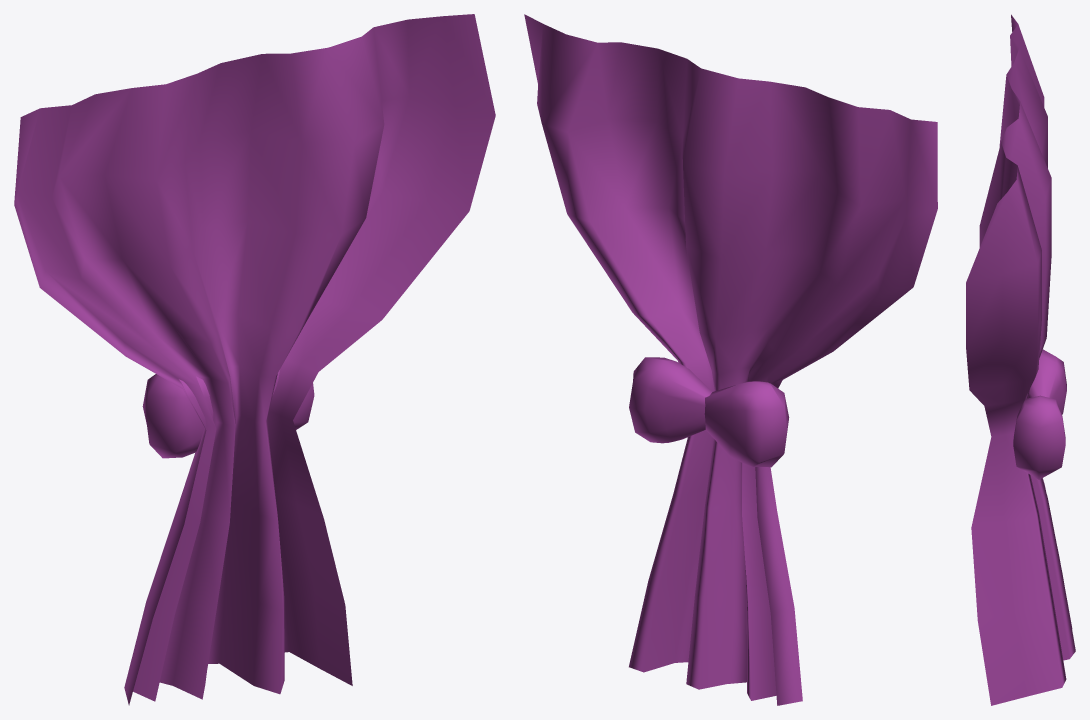
The model's file is mesh_CortinaCurva2.fbx.
The picture shows the model from 3 angles, left to right: view 1: azimuth 30°, elevation 25°; view 2: azimuth 150°, elevation 25°; view 3: azimuth 270°, elevation 25°; orthographic projection. The views are drawn at different scales.
Visible parts, largest first — view 1: mesh_CortinaCurva2; view 2: mesh_CortinaCurva2; view 3: mesh_CortinaCurva2.
Part boxes in pixels (bbox=[...]): mesh_CortinaCurva2: bbox=[14, 14, 495, 705]; mesh_CortinaCurva2: bbox=[524, 14, 937, 705]; mesh_CortinaCurva2: bbox=[966, 14, 1075, 705].
Bounding box in the file's own units: 2112 × 2848 × 510.
